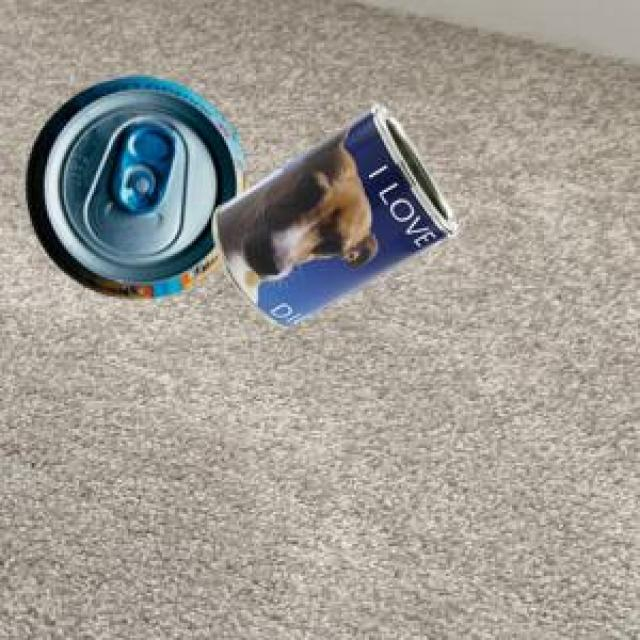Can: (210, 101, 455, 325), (22, 74, 246, 295)
